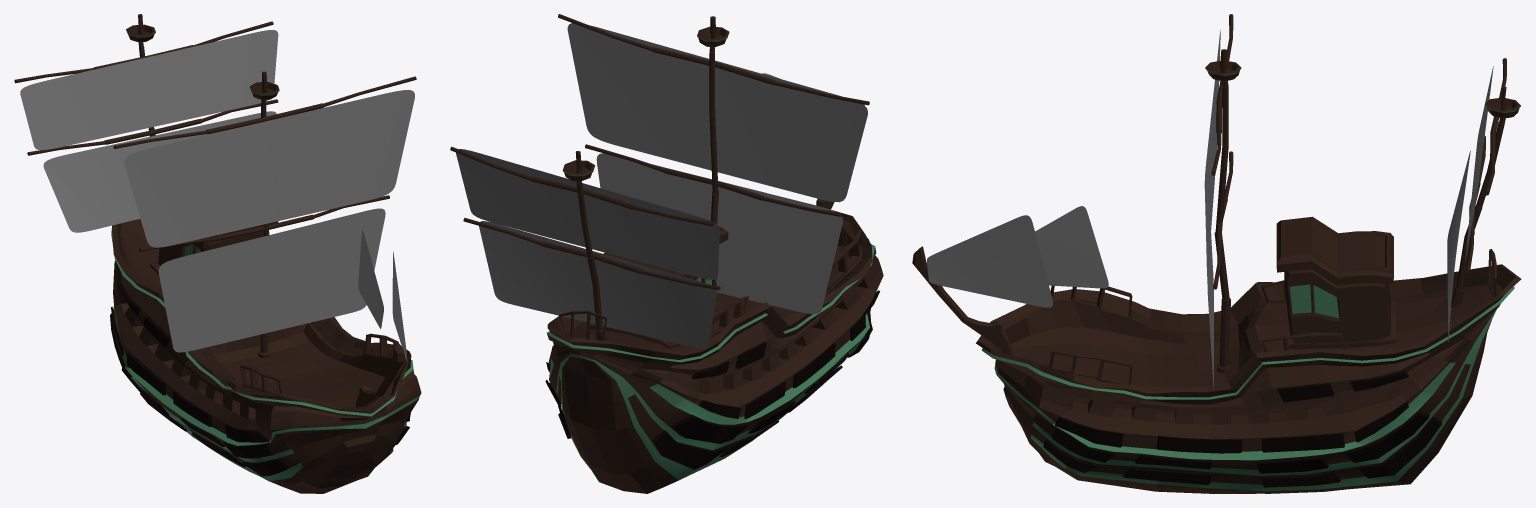
The model's file is 11-25_ShipModel_v2.3.fbx.
The picture shows the model from 3 angles, left to right: view 1: azimuth 30°, elevation 25°; view 2: azimuth 150°, elevation 25°; view 3: azimuth 270°, elevation 25°; orthographic projection. The views are drawn at different scales.
Parts seen in each view (by area): view 1: Sails, Hull, Mast Horiz Mid_1, R_front_L, Armor (15), Armor (18), Front Mast, Mast Horiz Mid_2 (2), Armor (20), Mast high, Armor (23), Mast Horiz Mid_2 (+3 smaller); view 2: Sails, Hull, Armor (25), Armor (24), Mast mid, R_front_L, Mast Horiz Mid_1, Armor (20), Mast high, Mast high (2), R_middle_L, Armor (18) (+5 smaller); view 3: Hull, Sails, Armor (11), Armor (10), Armor (6), Armor (4), Mid_Mast base, Armor (8), Mast mid, R_front_R, Armor (3), Armor (9) (+9 smaller).
Boxes of the visible parts, x1,y1,x2,y2 form: Sails: [20, 30, 414, 362]; Hull: [111, 218, 421, 493]; Mast Horiz Mid_1: [206, 103, 323, 134]; R_front_L: [240, 365, 282, 394]; Armor (15): [222, 441, 273, 458]; Armor (18): [127, 353, 165, 395]; Front Mast: [375, 343, 404, 396]; Mast Horiz Mid_2 (2): [104, 118, 202, 144]; Armor (20): [172, 391, 212, 426]; Mast high: [249, 71, 279, 105]; Armor (23): [225, 424, 269, 442]; Mast Horiz Mid_2: [216, 214, 314, 240]; Sails: [456, 23, 867, 348]; Hull: [547, 210, 883, 493]; Armor (25): [652, 430, 728, 469]; Armor (24): [670, 415, 749, 443]; Mast mid: [709, 53, 718, 191]; R_front_L: [826, 230, 862, 291]; Mast Horiz Mid_1: [652, 47, 774, 84]; Armor (20): [792, 343, 835, 388]; Mast high: [697, 16, 729, 53]; Mast high (2): [562, 151, 595, 186]; R_middle_L: [709, 296, 749, 337]; Armor (18): [744, 382, 785, 418]; Hull: [976, 216, 1521, 493]; Sails: [927, 30, 1493, 389]; Armor (11): [1356, 417, 1441, 478]; Armor (10): [1343, 411, 1429, 462]; Armor (6): [1157, 436, 1241, 453]; Armor (4): [1261, 433, 1344, 452]; Mid_Mast base: [1214, 232, 1231, 372]; Armor (8): [1123, 467, 1210, 484]; Mast mid: [1215, 86, 1228, 233]; R_front_R: [1049, 350, 1132, 384]; Armor (3): [1256, 456, 1328, 473]; Armor (9): [1055, 416, 1123, 447].
Size of the model in its own units: 1601 by 2039 by 2547.
